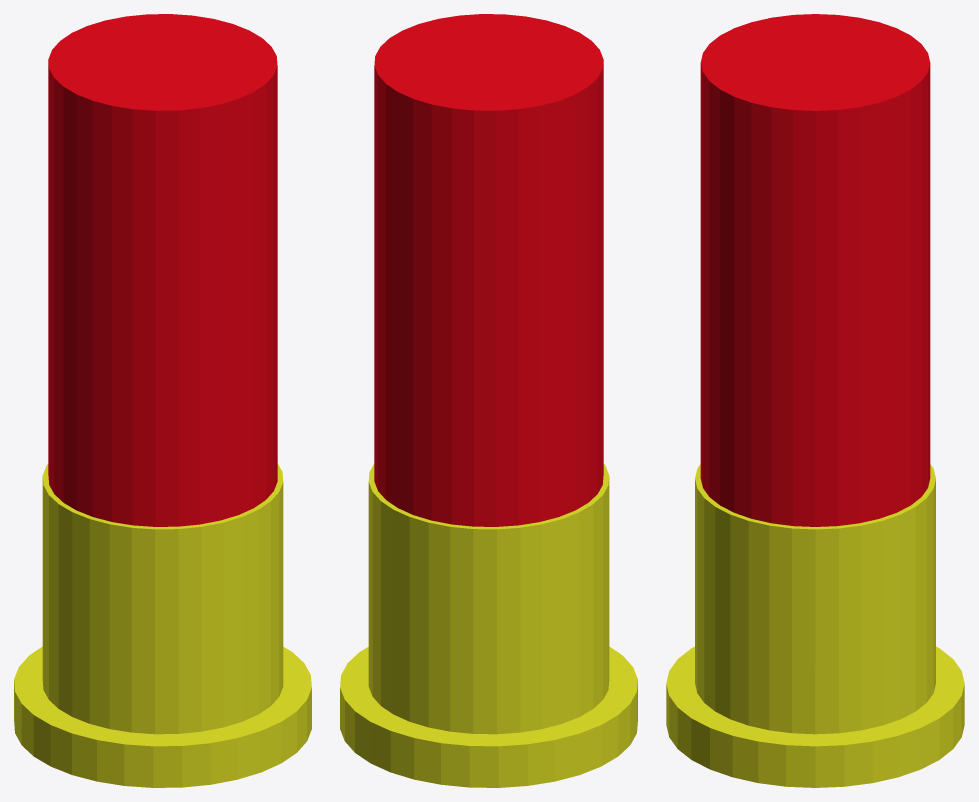
File: ShotGunShell.fbx
3 renders of one model, left to right at view 1: azimuth 30°, elevation 25°; view 2: azimuth 150°, elevation 25°; view 3: azimuth 270°, elevation 25°, orthographic.
Visible parts, largest first — view 1: Cylinder, Cylinder.001, Cylinder.002; view 2: Cylinder, Cylinder.001, Cylinder.002; view 3: Cylinder, Cylinder.001, Cylinder.002.
Part boxes in pixels (x1,y1,x2,y2): Cylinder: (48, 14, 277, 526); Cylinder.001: (42, 463, 283, 734); Cylinder.002: (14, 646, 311, 787); Cylinder: (374, 14, 603, 526); Cylinder.001: (368, 463, 609, 734); Cylinder.002: (340, 646, 637, 787); Cylinder: (700, 14, 930, 526); Cylinder.001: (695, 464, 935, 734); Cylinder.002: (666, 646, 964, 787).
Size of the model in its own units: 130 by 318 by 130.
